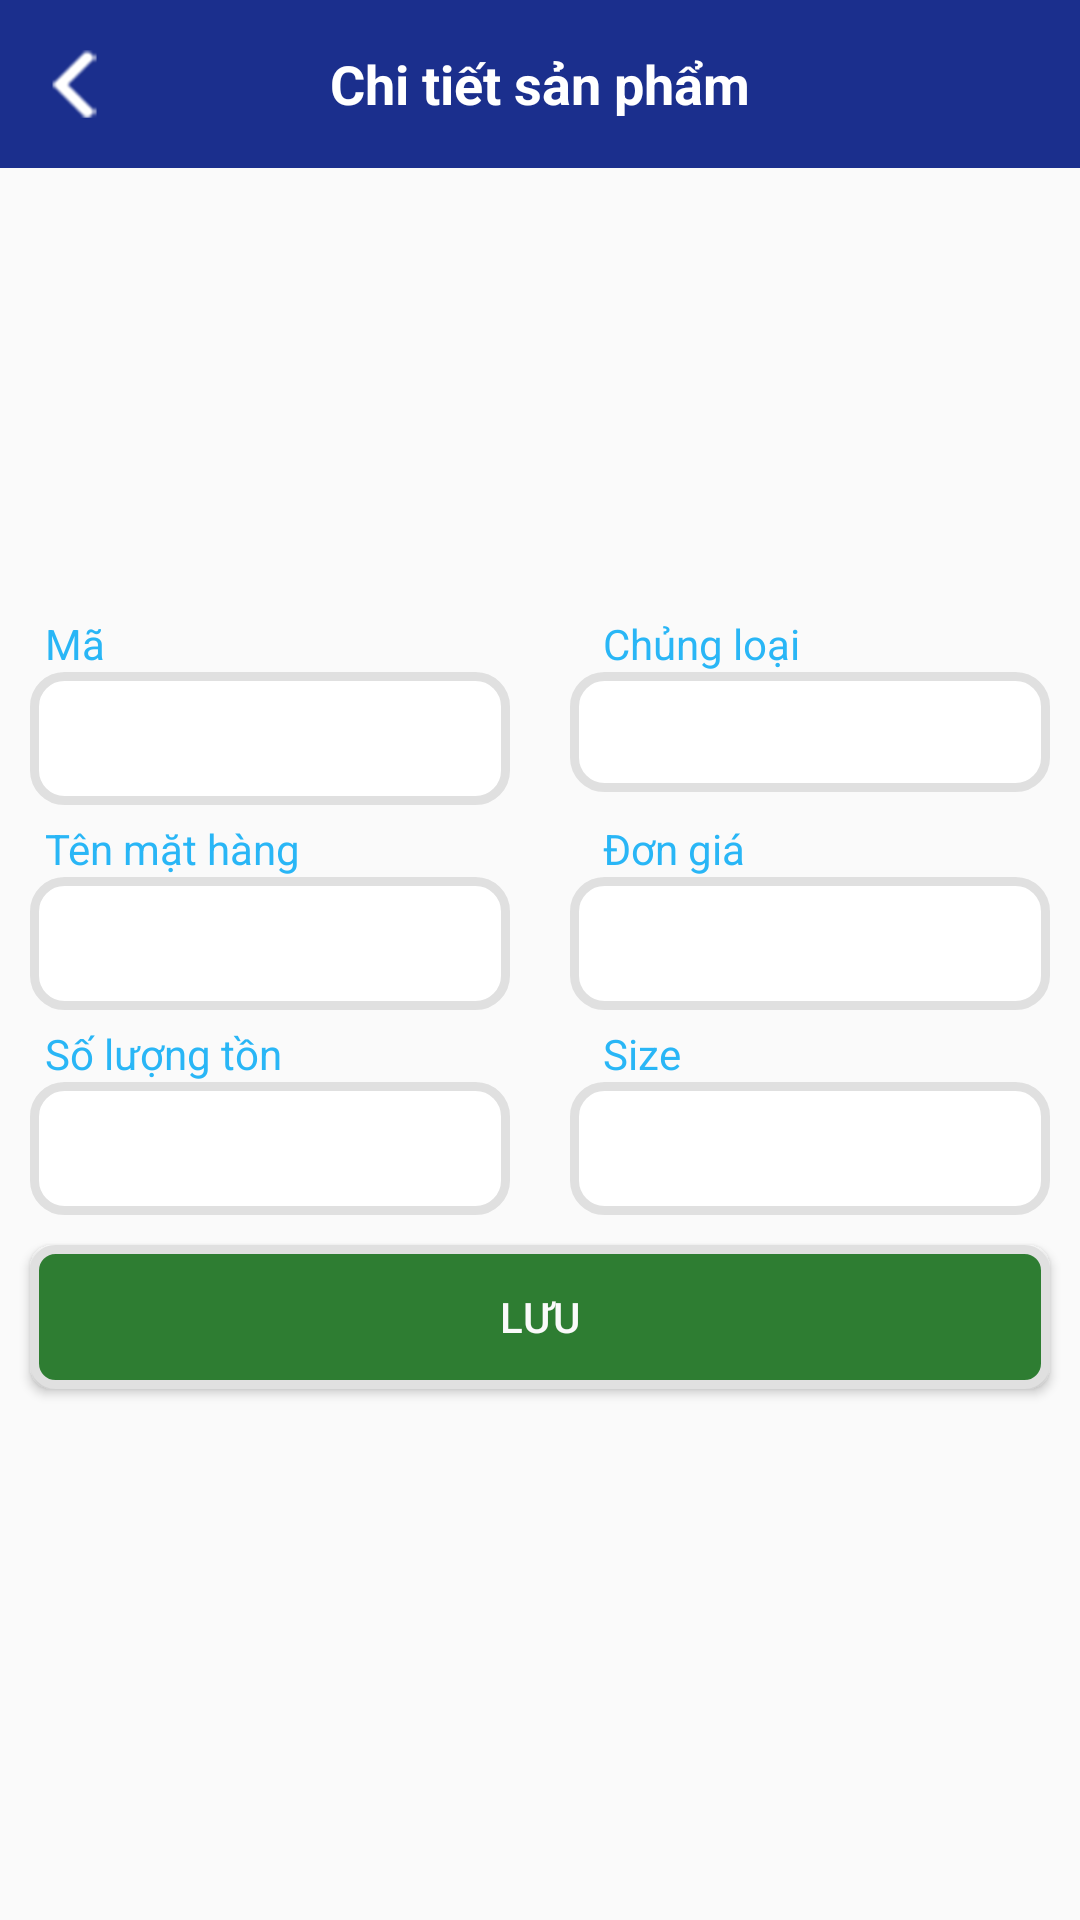

Point at icon controls on the screen. Image size 1080*1920, points as (x,y).
arrow left: (74,84)
